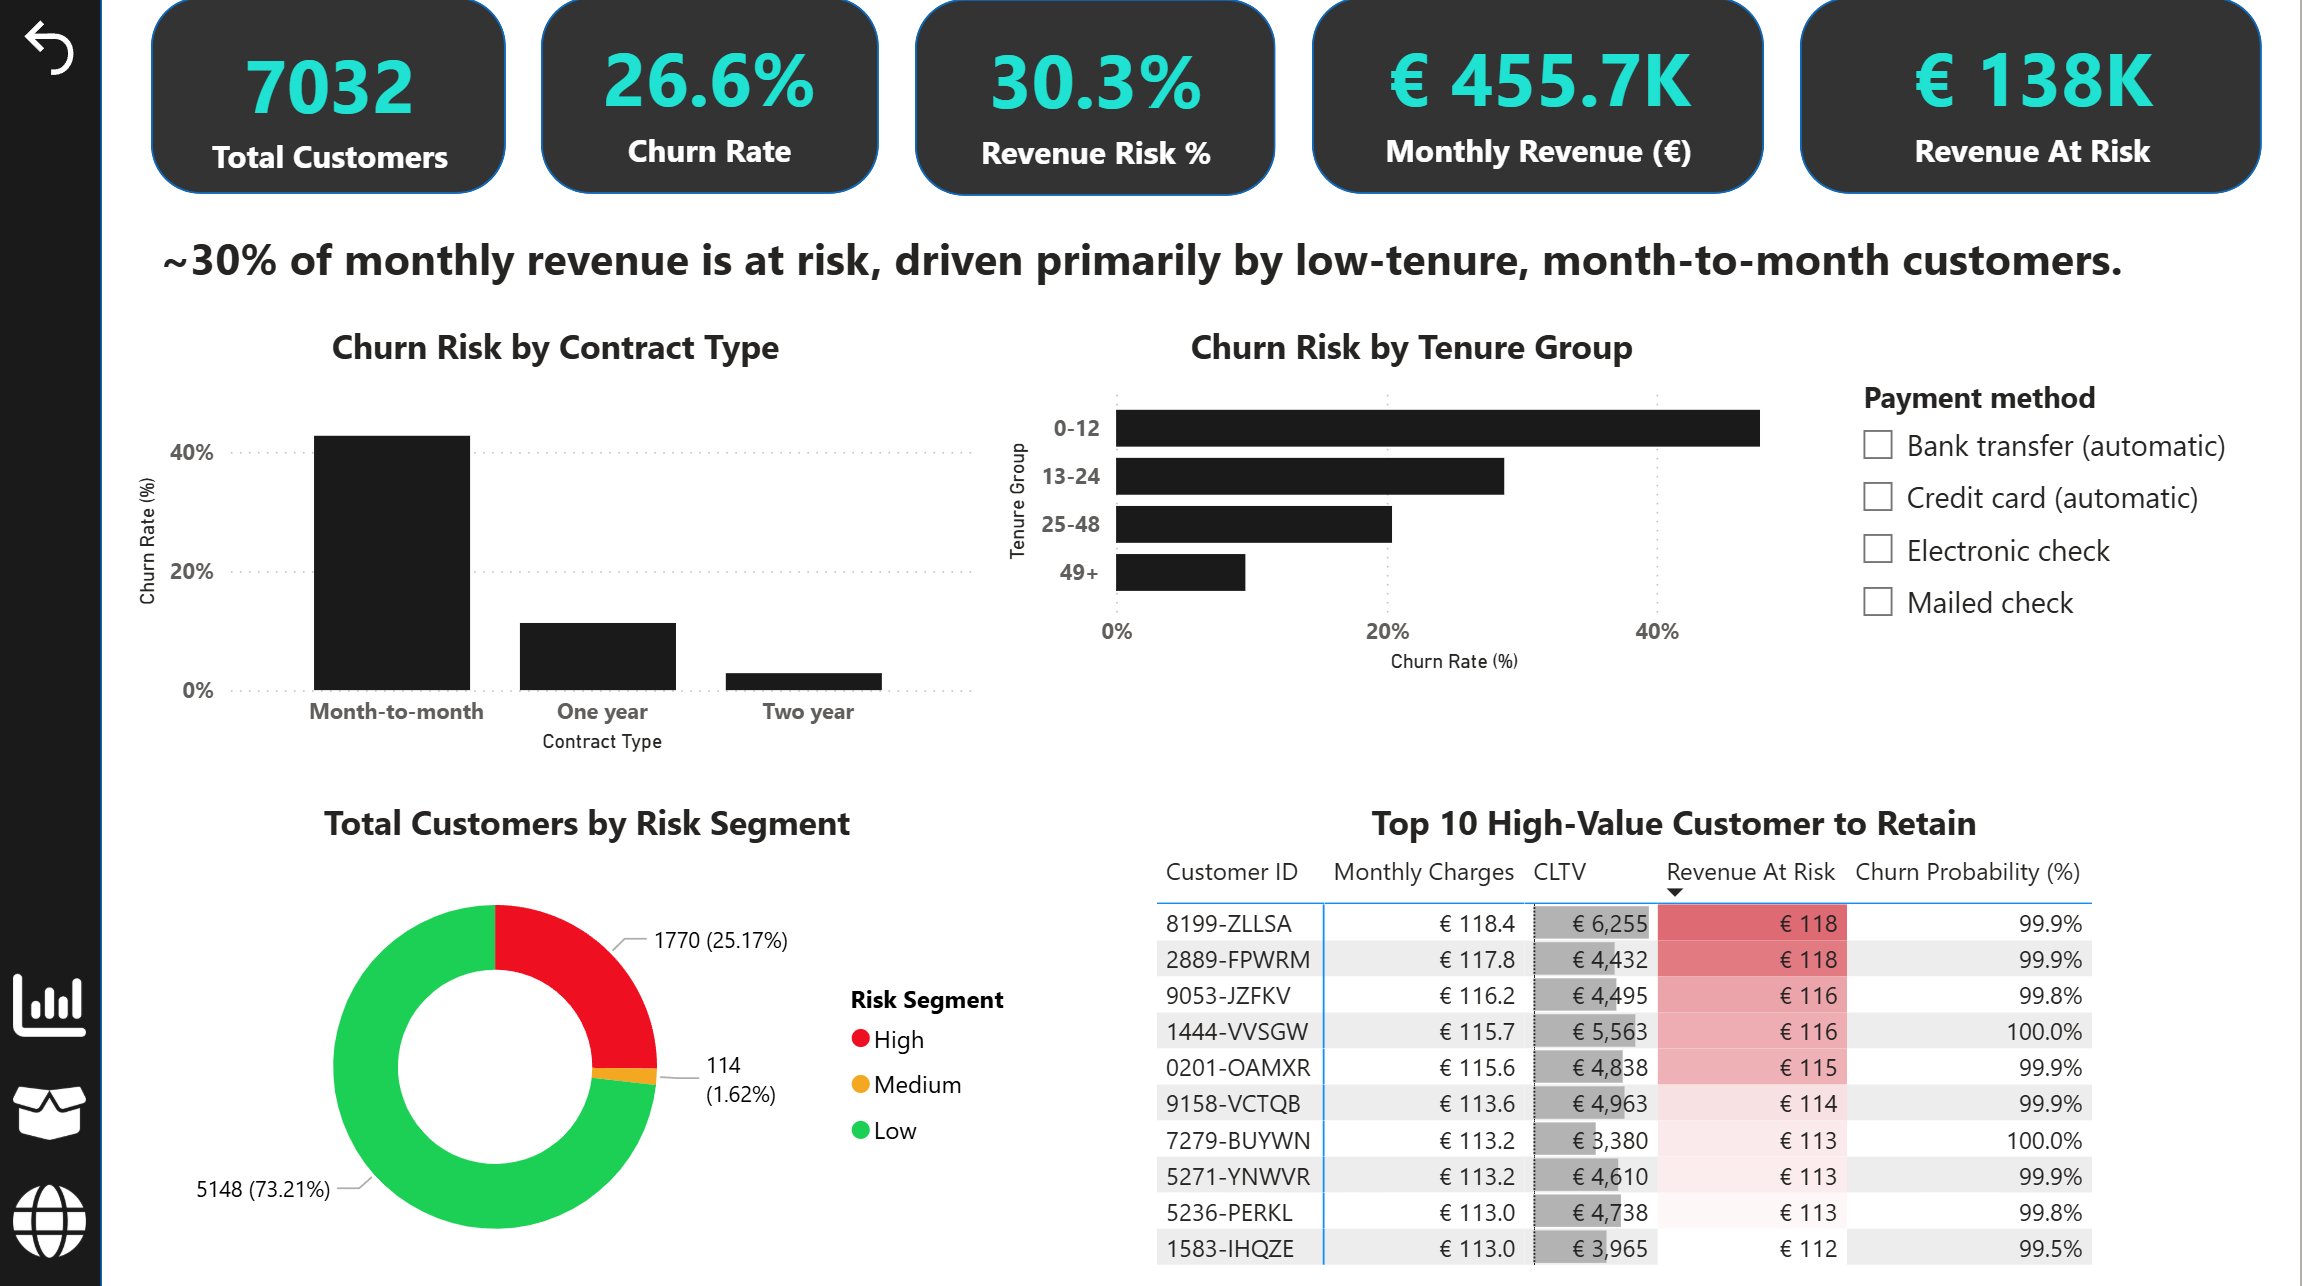

The page's visual inventory and layout, read from the dashboard file:
{"tool":"powerbi","page":{"name":"Overview","canvas":[1280,720],"ordinal":0},"visuals":[{"type":"group","id":"g1","title":"Group 1","box":[87.7,0,196.9,109.3],"z":0},{"type":"shape","box":[87.7,0,196.9,109.3],"z":0,"group":"g1"},{"type":"shape","box":[304.5,0,187.5,109.3],"z":0,"group":"g5"},{"type":"shape","box":[731.4,0,250.9,109.3],"z":0,"group":"g3"},{"type":"shape","box":[1002.1,0,256.3,109.3],"z":0,"group":"g4"},{"type":"shape","box":[511.9,1.3,199.6,109.3],"z":0,"group":"g2"},{"type":"group","id":"g2","title":"Group 1","box":[511.9,1.3,199.6,109.3],"z":1000},{"type":"card","fields":{"Values":["Measure Table.Churn Rate"]},"box":[329.5,8.4,138.5,92.7],"z":1000,"group":"g5"},{"type":"card","fields":{"Values":["Measure Table.Total Monthly Revenue"]},"box":[764.8,8.4,185.3,92.7],"z":1000,"group":"g3"},{"type":"card","fields":{"Values":["Measure Table.Revenue At Risk"]},"box":[1036.2,8.4,189.3,92.7],"z":1000,"group":"g4"},{"type":"card","fields":{"Values":["Measure Table.Total Customers"]},"box":[113.9,9.1,145.5,100.2],"z":1000,"group":"g1"},{"type":"card","fields":{"Values":["Measure Table.Revenue Risk %"]},"box":[538.5,9.7,147.5,92.7],"z":1000,"group":"g2"},{"type":"group","id":"g3","title":"Group 1","box":[731.4,0,250.9,109.3],"z":2000},{"type":"group","id":"g4","title":"Group 1","box":[1002.1,0,256.3,109.3],"z":3000},{"type":"clusteredColumnChart","title":"Churn Risk by Contract Type","fields":{"Category":["churn_project services.contract_type"],"Y":["Measure Table.Churn Rate"]},"box":[75.5,180.7,473.4,242.8],"z":4000},{"type":"donutChart","title":"Total Customers by Risk Segment","fields":{"Y":["Measure Table.Total Customers"],"Category":["RiskSegmentDim.risk_segment"]},"box":[76.5,445.6,506.2,272.9],"z":5000},{"type":"slicer","fields":{"Values":["churn_project services.payment_method"]},"box":[1025.1,205,223.9,152.4],"z":6000},{"type":"clusteredBarChart","title":"Churn Risk by Tenure Group","fields":{"Category":["churn_project customers.Tenure Group"],"Y":["Measure Table.Churn Rate"]},"box":[558.4,180.7,457.2,198.3],"z":7000},{"type":"pivotTable","title":"Top 10 High-Value Customer to Retain","fields":{"Rows":["churn_project customers.customer_id"],"Values":["Sum(churn_project services.monthly_charges)","Sum(churn_project churn.cltv)","Measure Table.Revenue At Risk","Measure Table.Avg Churn Probability"]},"box":[640.7,445.6,584,274.2],"z":8000},{"type":"group","id":"g5","title":"Group 1","box":[304.5,0,187.5,109.3],"z":9000},{"type":"textbox","box":[87.5,122.5,1161.2,58.8],"z":10000},{"type":"shape","box":[0,0,60.6,719.8],"z":11000},{"type":"actionButton","box":[10.8,8.1,49.9,40.5],"z":12000},{"type":"image","box":[11.3,536.3,40.5,47],"z":13000},{"type":"image","box":[11.3,657.8,40.5,42.1],"z":14000},{"type":"image","box":[11.3,597.9,40.5,42.1],"z":15000}]}

Visuals, with their boxes on the page's 1280x720 design canvas (x1, y1, x2, y2). These are canvas units, not pixel positions in the 2302x1286 screenshot, which may show the page scaled, cropped or inside an application window:
"Group 1" group: x1=88, y1=0, x2=285, y2=109
shape: x1=88, y1=0, x2=285, y2=109
shape: x1=304, y1=0, x2=492, y2=109
shape: x1=731, y1=0, x2=982, y2=109
shape: x1=1002, y1=0, x2=1258, y2=109
shape: x1=512, y1=1, x2=712, y2=111
"Group 1" group: x1=512, y1=1, x2=712, y2=111
card - Measure Table.Churn Rate: x1=330, y1=8, x2=468, y2=101
card - Measure Table.Total Monthly Revenue: x1=765, y1=8, x2=950, y2=101
card - Measure Table.Revenue At Risk: x1=1036, y1=8, x2=1226, y2=101
card - Measure Table.Total Customers: x1=114, y1=9, x2=259, y2=109
card - Measure Table.Revenue Risk %: x1=538, y1=10, x2=686, y2=102
"Group 1" group: x1=731, y1=0, x2=982, y2=109
"Group 1" group: x1=1002, y1=0, x2=1258, y2=109
"Churn Risk by Contract Type" clusteredColumnChart: x1=76, y1=181, x2=549, y2=424
"Total Customers by Risk Segment" donutChart: x1=76, y1=446, x2=583, y2=718
slicer - churn_project services.payment_method: x1=1025, y1=205, x2=1249, y2=357
"Churn Risk by Tenure Group" clusteredBarChart: x1=558, y1=181, x2=1016, y2=379
"Top 10 High-Value Customer to Retain" pivotTable: x1=641, y1=446, x2=1225, y2=720
"Group 1" group: x1=304, y1=0, x2=492, y2=109
textbox: x1=88, y1=122, x2=1249, y2=181
shape: x1=0, y1=0, x2=61, y2=720
actionButton: x1=11, y1=8, x2=61, y2=49
image: x1=11, y1=536, x2=52, y2=583
image: x1=11, y1=658, x2=52, y2=700
image: x1=11, y1=598, x2=52, y2=640
